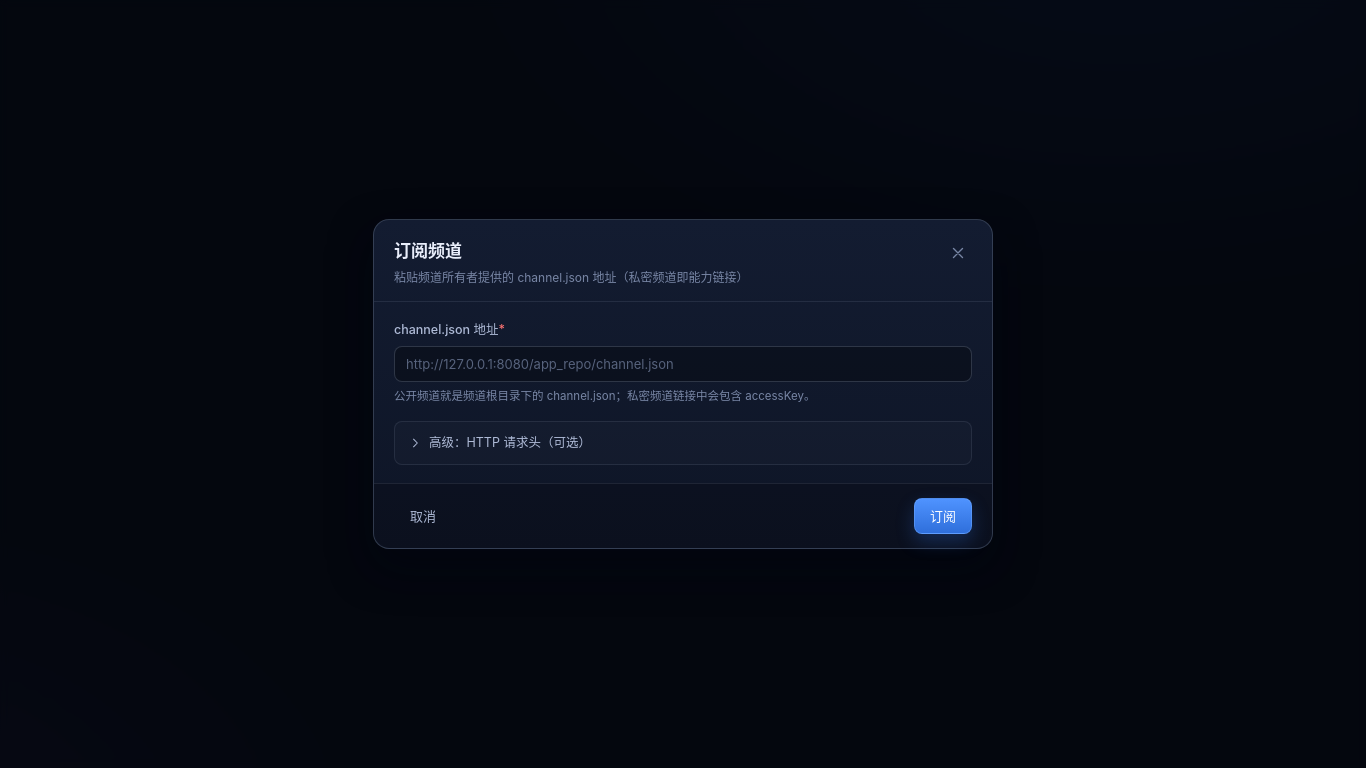
订阅频道对话框 › 订阅失败时在对话框内展示错误码与错误信息，并弹出错误 toast
Type "https://example.com/channel.json" into the field with test id "subscribe-url-input" at (683, 364), box x1=394 y1=346 x2=972 y2=382
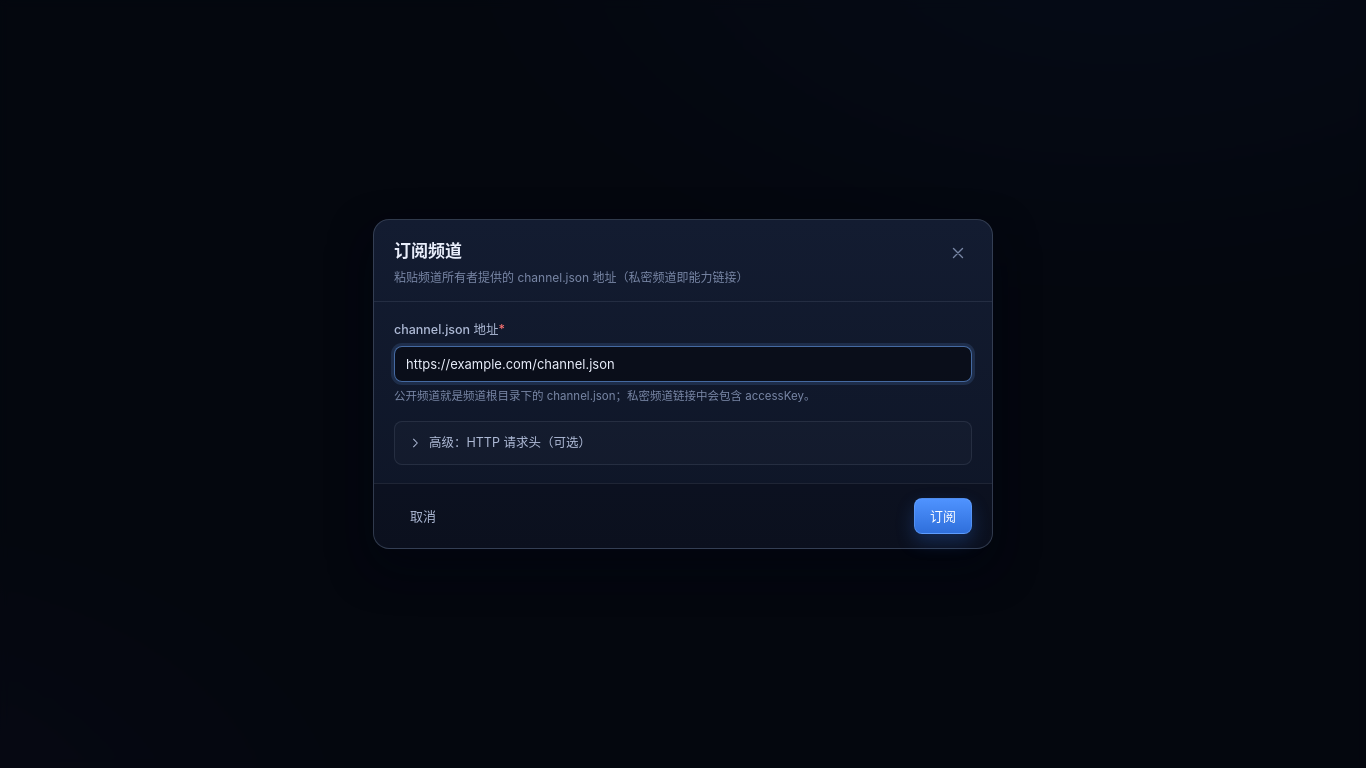
Click the button with test id "subscribe-submit" at (943, 516), box x1=914 y1=498 x2=972 y2=534
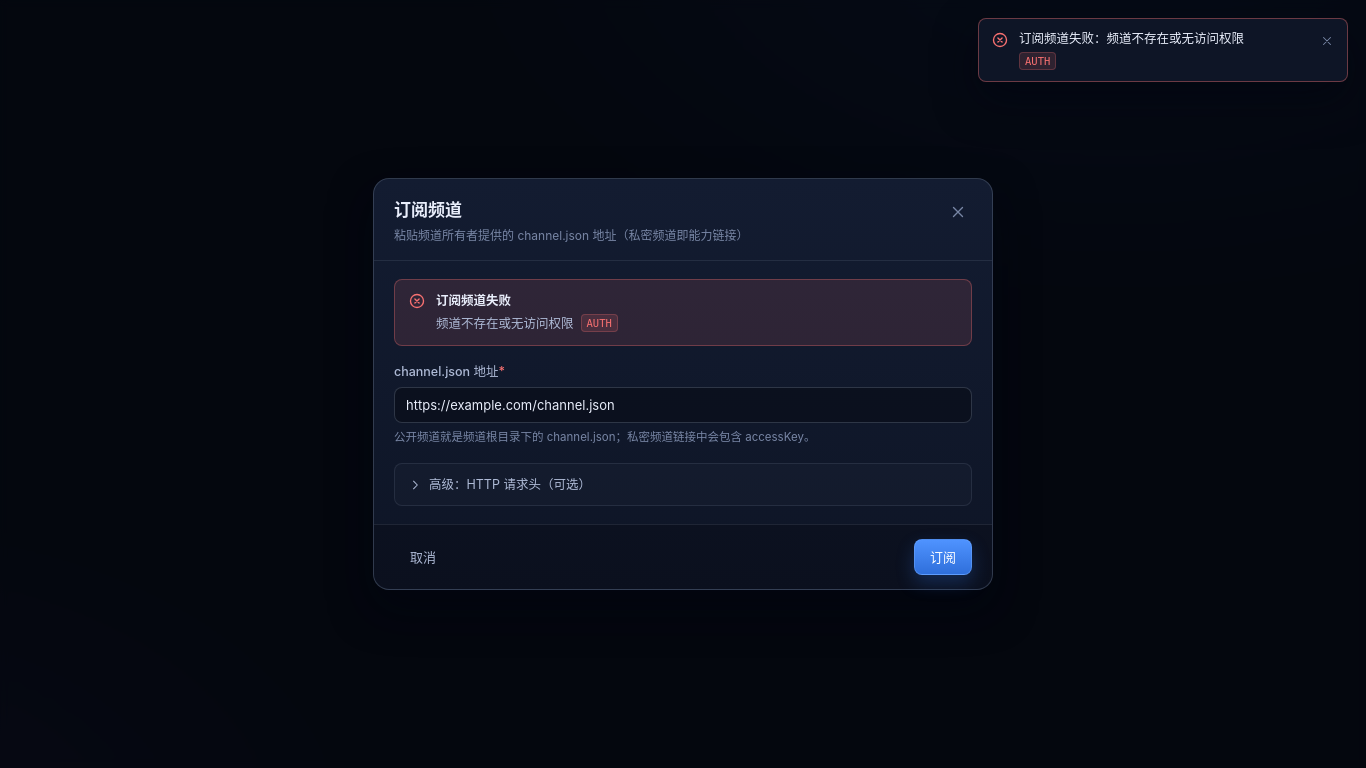
expect the text "频道不存在或无访问权限 AUTH" is shown: met, box x1=436 y1=314 x2=618 y2=334
expect the 2nd text "AUTH" is shown: met, box x1=580 y1=314 x2=618 y2=332
